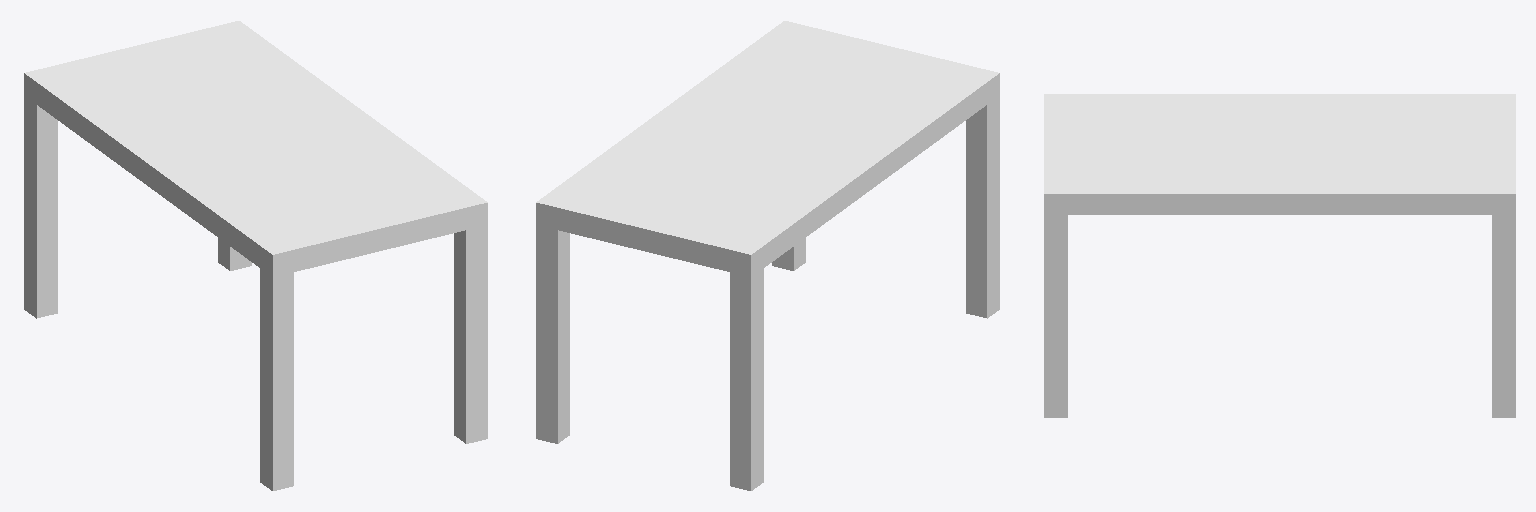
robot.urdf — rviz_sim:
<?xml version="1.0" ?>
<robot name="rviz_sim" version="1.0">
  <link name="map"/>
  <joint name="table_joint" type="fixed">
    <origin xyz="1.0 0.0 1.0" rpy="0.0 0.0 1.5707963705062866"/>
    <parent link="map"/>
    <child link="table"/>
  </joint>
  <link name="table">
    <inertial>
      <origin xyz="0.0 0.0 -0.20000000298023224" rpy="0.0 0.0 0.0"/>
      <mass value="10.0"/>
      <inertia ixx="2.251666784286499" ixy="0.0" ixz="0.0" iyy="6.551666736602783" iyz="0.0" izz="6.926666736602783"/>
    </inertial>
    <visual name="Geom_1">
      <origin xyz="0.0 0.0 0.0" rpy="0.0 0.0 0.0"/>
      <geometry>
        <box size="2.0 1.0 0.10000000149011612"/>
      </geometry>
      <material name="White">
        <color rgba="1.0 1.0 1.0 1.0"/>
      </material>
    </visual>
    <visual name="Geom_2">
      <origin xyz="0.949999988079071 0.44999998807907104 -0.5" rpy="0.0 0.0 0.0"/>
      <geometry>
        <box size="0.10000000149011612 0.10000000149011612 1.0"/>
      </geometry>
      <material name="White">
        <color rgba="1.0 1.0 1.0 1.0"/>
      </material>
    </visual>
    <visual name="Geom_3">
      <origin xyz="-0.949999988079071 0.44999998807907104 -0.5" rpy="0.0 0.0 0.0"/>
      <geometry>
        <box size="0.10000000149011612 0.10000000149011612 1.0"/>
      </geometry>
      <material name="White">
        <color rgba="1.0 1.0 1.0 1.0"/>
      </material>
    </visual>
    <visual name="Geom_4">
      <origin xyz="0.949999988079071 -0.44999998807907104 -0.5" rpy="0.0 0.0 0.0"/>
      <geometry>
        <box size="0.10000000149011612 0.10000000149011612 1.0"/>
      </geometry>
      <material name="White">
        <color rgba="1.0 1.0 1.0 1.0"/>
      </material>
    </visual>
    <visual name="Geom_5">
      <origin xyz="-0.949999988079071 -0.44999998807907104 -0.5" rpy="0.0 0.0 0.0"/>
      <geometry>
        <box size="0.10000000149011612 0.10000000149011612 1.0"/>
      </geometry>
      <material name="White">
        <color rgba="1.0 1.0 1.0 1.0"/>
      </material>
    </visual>
  </link>
  <joint name="mujoco_cube_1_joint" type="floating">
    <origin xyz="0.7 0.9 1.5" rpy="0.0 0.0 3.1415927410125732"/>
    <parent link="map"/>
    <child link="mujoco_cube_1"/>
  </joint>
  <link name="mujoco_cube_1">
    <inertial>
      <origin xyz="0.0 0.0 0.0" rpy="0.0 0.0 0.0"/>
      <mass value="0.125"/>
      <inertia ixx="5.207999856793322e-05" ixy="0.0" ixz="0.0" iyy="5.207999856793322e-05" iyz="0.0" izz="5.207999856793322e-05"/>
    </inertial>
    <visual name="mujoco_cube_geom_1">
      <origin xyz="0.0 0.0 0.0" rpy="0.0 0.0 0.0"/>
      <geometry>
        <mesh filename="file://scene/meshes/obj/mujoco_cube_1_cube_mesh.obj" scale="1.0 1.0 1.0"/>
      </geometry>
    </visual>
  </link>
  <joint name="mujoco_cube_2_joint" type="floating">
    <origin xyz="0.7 0.84 1.5" rpy="0.0 0.0 1.5707963705062866"/>
    <parent link="map"/>
    <child link="mujoco_cube_2"/>
  </joint>
  <link name="mujoco_cube_2">
    <inertial>
      <origin xyz="0.0 0.0 0.0" rpy="0.0 0.0 0.0"/>
      <mass value="0.125"/>
      <inertia ixx="5.207999856793322e-05" ixy="0.0" ixz="0.0" iyy="5.207999856793322e-05" iyz="0.0" izz="5.207999856793322e-05"/>
    </inertial>
    <visual name="mujoco_cube_geom_2">
      <origin xyz="0.0 0.0 0.0" rpy="0.0 0.0 0.0"/>
      <geometry>
        <mesh filename="file://scene/meshes/obj/mujoco_cube_2_cube_mesh.obj" scale="1.0 1.0 1.0"/>
      </geometry>
    </visual>
  </link>
  <joint name="mujoco_cube_3_joint" type="floating">
    <origin xyz="0.7 0.78 1.5" rpy="0.0 0.0 0.0"/>
    <parent link="map"/>
    <child link="mujoco_cube_3"/>
  </joint>
  <link name="mujoco_cube_3">
    <inertial>
      <origin xyz="0.0 0.0 0.0" rpy="0.0 0.0 0.0"/>
      <mass value="0.125"/>
      <inertia ixx="5.207999856793322e-05" ixy="0.0" ixz="0.0" iyy="5.207999856793322e-05" iyz="0.0" izz="5.207999856793322e-05"/>
    </inertial>
    <visual name="mujoco_cube_geom_3">
      <origin xyz="0.0 0.0 0.0" rpy="0.0 0.0 0.0"/>
      <geometry>
        <mesh filename="file://scene/meshes/obj/mujoco_cube_3_cube_mesh.obj" scale="1.0 1.0 1.0"/>
      </geometry>
    </visual>
  </link>
  <joint name="mujoco_cube_4_joint" type="floating">
    <origin xyz="0.7 0.72 1.5" rpy="0.0 0.0 -1.5707963705062866"/>
    <parent link="map"/>
    <child link="mujoco_cube_4"/>
  </joint>
  <link name="mujoco_cube_4">
    <inertial>
      <origin xyz="0.0 0.0 0.0" rpy="0.0 0.0 0.0"/>
      <mass value="0.125"/>
      <inertia ixx="5.207999856793322e-05" ixy="0.0" ixz="0.0" iyy="5.207999856793322e-05" iyz="0.0" izz="5.207999856793322e-05"/>
    </inertial>
    <visual name="mujoco_cube_geom_4">
      <origin xyz="0.0 0.0 0.0" rpy="0.0 0.0 0.0"/>
      <geometry>
        <mesh filename="file://scene/meshes/obj/mujoco_cube_4_cube_mesh.obj" scale="1.0 1.0 1.0"/>
      </geometry>
    </visual>
  </link>
  <joint name="mujoco_cube_5_joint" type="floating">
    <origin xyz="0.7 0.66 1.5" rpy="-3.1415927410125732 1.5707963705062866 0.0"/>
    <parent link="map"/>
    <child link="mujoco_cube_5"/>
  </joint>
  <link name="mujoco_cube_5">
    <inertial>
      <origin xyz="0.0 0.0 0.0" rpy="0.0 0.0 0.0"/>
      <mass value="0.125"/>
      <inertia ixx="5.207999856793322e-05" ixy="0.0" ixz="0.0" iyy="5.207999856793322e-05" iyz="0.0" izz="5.207999856793322e-05"/>
    </inertial>
    <visual name="mujoco_cube_geom_5">
      <origin xyz="0.0 0.0 0.0" rpy="0.0 0.0 0.0"/>
      <geometry>
        <mesh filename="file://scene/meshes/obj/mujoco_cube_5_cube_mesh.obj" scale="1.0 1.0 1.0"/>
      </geometry>
    </visual>
  </link>
  <joint name="mujoco_cube_6_joint" type="floating">
    <origin xyz="0.7 0.6 1.5" rpy="3.1415927410125732 -1.5707963705062866 0.0"/>
    <parent link="map"/>
    <child link="mujoco_cube_6"/>
  </joint>
  <link name="mujoco_cube_6">
    <inertial>
      <origin xyz="0.0 0.0 0.0" rpy="0.0 0.0 0.0"/>
      <mass value="0.125"/>
      <inertia ixx="5.207999856793322e-05" ixy="0.0" ixz="0.0" iyy="5.207999856793322e-05" iyz="0.0" izz="5.207999856793322e-05"/>
    </inertial>
    <visual name="mujoco_cube_geom_6">
      <origin xyz="0.0 0.0 0.0" rpy="0.0 0.0 0.0"/>
      <geometry>
        <mesh filename="file://scene/meshes/obj/mujoco_cube_6_cube_mesh.obj" scale="1.0 1.0 1.0"/>
      </geometry>
    </visual>
  </link>
  <joint name="gazebo_cube_1_joint" type="floating">
    <origin xyz="0.7 0.4 1.5" rpy="0.0 0.0 3.1415927410125732"/>
    <parent link="map"/>
    <child link="gazebo_cube_1"/>
  </joint>
  <link name="gazebo_cube_1">
    <inertial>
      <origin xyz="0.0 0.0 0.0" rpy="0.0 0.0 0.0"/>
      <mass value="0.125"/>
      <inertia ixx="5.207999856793322e-05" ixy="0.0" ixz="0.0" iyy="5.207999856793322e-05" iyz="0.0" izz="5.207999856793322e-05"/>
    </inertial>
    <visual name="gazebo_cube_geom_1">
      <origin xyz="0.0 0.0 0.0" rpy="0.0 0.0 0.0"/>
      <geometry>
        <mesh filename="file://scene/meshes/obj/gazebo_cube_1_cube_mesh.obj" scale="1.0 1.0 1.0"/>
      </geometry>
    </visual>
  </link>
  <joint name="gazebo_cube_2_joint" type="floating">
    <origin xyz="0.7 0.34 1.5" rpy="0.0 0.0 1.5707963705062866"/>
    <parent link="map"/>
    <child link="gazebo_cube_2"/>
  </joint>
  <link name="gazebo_cube_2">
    <inertial>
      <origin xyz="0.0 0.0 0.0" rpy="0.0 0.0 0.0"/>
      <mass value="0.125"/>
      <inertia ixx="5.207999856793322e-05" ixy="0.0" ixz="0.0" iyy="5.207999856793322e-05" iyz="0.0" izz="5.207999856793322e-05"/>
    </inertial>
    <visual name="gazebo_cube_geom_2">
      <origin xyz="0.0 0.0 0.0" rpy="0.0 0.0 0.0"/>
      <geometry>
        <mesh filename="file://scene/meshes/obj/gazebo_cube_2_cube_mesh.obj" scale="1.0 1.0 1.0"/>
      </geometry>
    </visual>
  </link>
  <joint name="gazebo_cube_3_joint" type="floating">
    <origin xyz="0.7 0.28 1.5" rpy="0.0 0.0 0.0"/>
    <parent link="map"/>
    <child link="gazebo_cube_3"/>
  </joint>
  <link name="gazebo_cube_3">
    <inertial>
      <origin xyz="0.0 0.0 0.0" rpy="0.0 0.0 0.0"/>
      <mass value="0.125"/>
      <inertia ixx="5.207999856793322e-05" ixy="0.0" ixz="0.0" iyy="5.207999856793322e-05" iyz="0.0" izz="5.207999856793322e-05"/>
    </inertial>
    <visual name="gazebo_cube_geom_3">
      <origin xyz="0.0 0.0 0.0" rpy="0.0 0.0 0.0"/>
      <geometry>
        <mesh filename="file://scene/meshes/obj/gazebo_cube_3_cube_mesh.obj" scale="1.0 1.0 1.0"/>
      </geometry>
    </visual>
  </link>
  <joint name="gazebo_cube_4_joint" type="floating">
    <origin xyz="0.7 0.22 1.5" rpy="0.0 0.0 -1.5707963705062866"/>
    <parent link="map"/>
    <child link="gazebo_cube_4"/>
  </joint>
  <link name="gazebo_cube_4">
    <inertial>
      <origin xyz="0.0 0.0 0.0" rpy="0.0 0.0 0.0"/>
      <mass value="0.125"/>
      <inertia ixx="5.207999856793322e-05" ixy="0.0" ixz="0.0" iyy="5.207999856793322e-05" iyz="0.0" izz="5.207999856793322e-05"/>
    </inertial>
    <visual name="gazebo_cube_geom_4">
      <origin xyz="0.0 0.0 0.0" rpy="0.0 0.0 0.0"/>
      <geometry>
        <mesh filename="file://scene/meshes/obj/gazebo_cube_4_cube_mesh.obj" scale="1.0 1.0 1.0"/>
      </geometry>
    </visual>
  </link>
  <joint name="gazebo_cube_5_joint" type="floating">
    <origin xyz="0.7 0.16 1.5" rpy="-3.1415927410125732 1.5707963705062866 0.0"/>
    <parent link="map"/>
    <child link="gazebo_cube_5"/>
  </joint>
  <link name="gazebo_cube_5">
    <inertial>
      <origin xyz="0.0 0.0 0.0" rpy="0.0 0.0 0.0"/>
      <mass value="0.125"/>
      <inertia ixx="5.207999856793322e-05" ixy="0.0" ixz="0.0" iyy="5.207999856793322e-05" iyz="0.0" izz="5.207999856793322e-05"/>
    </inertial>
    <visual name="gazebo_cube_geom_5">
      <origin xyz="0.0 0.0 0.0" rpy="0.0 0.0 0.0"/>
      <geometry>
        <mesh filename="file://scene/meshes/obj/gazebo_cube_5_cube_mesh.obj" scale="1.0 1.0 1.0"/>
      </geometry>
    </visual>
  </link>
  <joint name="gazebo_cube_6_joint" type="floating">
    <origin xyz="0.7 0.1 1.5" rpy="3.1415927410125732 -1.5707963705062866 0.0"/>
    <parent link="map"/>
    <child link="gazebo_cube_6"/>
  </joint>
  <link name="gazebo_cube_6">
    <inertial>
      <origin xyz="0.0 0.0 0.0" rpy="0.0 0.0 0.0"/>
      <mass value="0.125"/>
      <inertia ixx="5.207999856793322e-05" ixy="0.0" ixz="0.0" iyy="5.207999856793322e-05" iyz="0.0" izz="5.207999856793322e-05"/>
    </inertial>
    <visual name="gazebo_cube_geom_6">
      <origin xyz="0.0 0.0 0.0" rpy="0.0 0.0 0.0"/>
      <geometry>
        <mesh filename="file://scene/meshes/obj/gazebo_cube_6_cube_mesh.obj" scale="1.0 1.0 1.0"/>
      </geometry>
    </visual>
  </link>
  <joint name="isaac_sim_cube_1_joint" type="floating">
    <origin xyz="0.7 -0.1 1.5" rpy="0.0 0.0 3.1415927410125732"/>
    <parent link="map"/>
    <child link="isaac_sim_cube_1"/>
  </joint>
  <link name="isaac_sim_cube_1">
    <inertial>
      <origin xyz="0.0 0.0 0.0" rpy="0.0 0.0 0.0"/>
      <mass value="0.125"/>
      <inertia ixx="5.207999856793322e-05" ixy="0.0" ixz="0.0" iyy="5.207999856793322e-05" iyz="0.0" izz="5.207999856793322e-05"/>
    </inertial>
    <visual name="isaac_sim_cube_geom_1">
      <origin xyz="0.0 0.0 0.0" rpy="0.0 0.0 0.0"/>
      <geometry>
        <mesh filename="file://scene/meshes/obj/isaac_sim_cube_1_cube_mesh.obj" scale="1.0 1.0 1.0"/>
      </geometry>
    </visual>
  </link>
  <joint name="isaac_sim_cube_2_joint" type="floating">
    <origin xyz="0.7 -0.16 1.5" rpy="0.0 0.0 1.5707963705062866"/>
    <parent link="map"/>
    <child link="isaac_sim_cube_2"/>
  </joint>
  <link name="isaac_sim_cube_2">
    <inertial>
      <origin xyz="0.0 0.0 0.0" rpy="0.0 0.0 0.0"/>
      <mass value="0.125"/>
      <inertia ixx="5.207999856793322e-05" ixy="0.0" ixz="0.0" iyy="5.207999856793322e-05" iyz="0.0" izz="5.207999856793322e-05"/>
    </inertial>
    <visual name="isaac_sim_cube_geom_2">
      <origin xyz="0.0 0.0 0.0" rpy="0.0 0.0 0.0"/>
      <geometry>
        <mesh filename="file://scene/meshes/obj/isaac_sim_cube_2_cube_mesh.obj" scale="1.0 1.0 1.0"/>
      </geometry>
    </visual>
  </link>
  <joint name="isaac_sim_cube_3_joint" type="floating">
    <origin xyz="0.7 -0.22 1.5" rpy="0.0 0.0 0.0"/>
    <parent link="map"/>
    <child link="isaac_sim_cube_3"/>
  </joint>
  <link name="isaac_sim_cube_3">
    <inertial>
      <origin xyz="0.0 0.0 0.0" rpy="0.0 0.0 0.0"/>
      <mass value="0.125"/>
      <inertia ixx="5.207999856793322e-05" ixy="0.0" ixz="0.0" iyy="5.207999856793322e-05" iyz="0.0" izz="5.207999856793322e-05"/>
    </inertial>
    <visual name="isaac_sim_cube_geom_3">
      <origin xyz="0.0 0.0 0.0" rpy="0.0 0.0 0.0"/>
      <geometry>
        <mesh filename="file://scene/meshes/obj/isaac_sim_cube_3_cube_mesh.obj" scale="1.0 1.0 1.0"/>
      </geometry>
    </visual>
  </link>
  <joint name="isaac_sim_cube_4_joint" type="floating">
    <origin xyz="0.7 -0.28 1.5" rpy="0.0 0.0 -1.5707963705062866"/>
    <parent link="map"/>
    <child link="isaac_sim_cube_4"/>
  </joint>
  <link name="isaac_sim_cube_4">
    <inertial>
      <origin xyz="0.0 0.0 0.0" rpy="0.0 0.0 0.0"/>
      <mass value="0.125"/>
      <inertia ixx="5.207999856793322e-05" ixy="0.0" ixz="0.0" iyy="5.207999856793322e-05" iyz="0.0" izz="5.207999856793322e-05"/>
    </inertial>
    <visual name="isaac_sim_cube_geom_4">
      <origin xyz="0.0 0.0 0.0" rpy="0.0 0.0 0.0"/>
      <geometry>
        <mesh filename="file://scene/meshes/obj/isaac_sim_cube_4_cube_mesh.obj" scale="1.0 1.0 1.0"/>
      </geometry>
    </visual>
  </link>
  <joint name="isaac_sim_cube_5_joint" type="floating">
    <origin xyz="0.7 -0.34 1.5" rpy="3.1415927410125732 -1.5707963705062866 0.0"/>
    <parent link="map"/>
    <child link="isaac_sim_cube_5"/>
  </joint>
  <link name="isaac_sim_cube_5">
    <inertial>
      <origin xyz="0.0 0.0 0.0" rpy="0.0 0.0 0.0"/>
      <mass value="0.125"/>
      <inertia ixx="5.207999856793322e-05" ixy="0.0" ixz="0.0" iyy="5.207999856793322e-05" iyz="0.0" izz="5.207999856793322e-05"/>
    </inertial>
    <visual name="isaac_sim_cube_geom_5">
      <origin xyz="0.0 0.0 0.0" rpy="0.0 0.0 0.0"/>
      <geometry>
        <mesh filename="file://scene/meshes/obj/isaac_sim_cube_5_cube_mesh.obj" scale="1.0 1.0 1.0"/>
      </geometry>
    </visual>
  </link>
  <joint name="isaac_sim_cube_6_joint" type="floating">
    <origin xyz="0.7 -0.4 1.5" rpy="0.0 -1.5707963705062866 0.0"/>
    <parent link="map"/>
    <child link="isaac_sim_cube_6"/>
  </joint>
  <link name="isaac_sim_cube_6">
    <inertial>
      <origin xyz="0.0 0.0 0.0" rpy="0.0 0.0 0.0"/>
      <mass value="0.125"/>
      <inertia ixx="5.207999856793322e-05" ixy="0.0" ixz="0.0" iyy="5.207999856793322e-05" iyz="0.0" izz="5.207999856793322e-05"/>
    </inertial>
    <visual name="isaac_sim_cube_geom_6">
      <origin xyz="0.0 0.0 0.0" rpy="0.0 0.0 0.0"/>
      <geometry>
        <mesh filename="file://scene/meshes/obj/isaac_sim_cube_6_cube_mesh.obj" scale="1.0 1.0 1.0"/>
      </geometry>
    </visual>
  </link>
  <joint name="unreal_cube_1_joint" type="floating">
    <origin xyz="0.7 -0.6 1.5" rpy="0.0 0.0 3.1415927410125732"/>
    <parent link="map"/>
    <child link="unreal_cube_1"/>
  </joint>
  <link name="unreal_cube_1">
    <inertial>
      <origin xyz="0.0 0.0 0.0" rpy="0.0 0.0 0.0"/>
      <mass value="0.125"/>
      <inertia ixx="5.207999856793322e-05" ixy="0.0" ixz="0.0" iyy="5.207999856793322e-05" iyz="0.0" izz="5.207999856793322e-05"/>
    </inertial>
    <visual name="unreal_cube_geom_1">
      <origin xyz="0.0 0.0 0.0" rpy="0.0 0.0 0.0"/>
      <geometry>
        <mesh filename="file://scene/meshes/obj/unreal_cube_1_cube_mesh.obj" scale="1.0 1.0 1.0"/>
      </geometry>
    </visual>
  </link>
  <joint name="unreal_cube_2_joint" type="floating">
    <origin xyz="0.7 -0.66 1.5" rpy="0.0 0.0 1.5707963705062866"/>
    <parent link="map"/>
    <child link="unreal_cube_2"/>
  </joint>
  <link name="unreal_cube_2">
    <inertial>
      <origin xyz="0.0 0.0 0.0" rpy="0.0 0.0 0.0"/>
      <mass value="0.125"/>
      <inertia ixx="5.207999856793322e-05" ixy="0.0" ixz="0.0" iyy="5.207999856793322e-05" iyz="0.0" izz="5.207999856793322e-05"/>
    </inertial>
    <visual name="unreal_cube_geom_2">
      <origin xyz="0.0 0.0 0.0" rpy="0.0 0.0 0.0"/>
      <geometry>
        <mesh filename="file://scene/meshes/obj/unreal_cube_2_cube_mesh.obj" scale="1.0 1.0 1.0"/>
      </geometry>
    </visual>
  </link>
  <joint name="unreal_cube_3_joint" type="floating">
    <origin xyz="0.7 -0.72 1.5" rpy="0.0 0.0 0.0"/>
    <parent link="map"/>
    <child link="unreal_cube_3"/>
  </joint>
  <link name="unreal_cube_3">
    <inertial>
      <origin xyz="0.0 0.0 0.0" rpy="0.0 0.0 0.0"/>
      <mass value="0.125"/>
      <inertia ixx="5.207999856793322e-05" ixy="0.0" ixz="0.0" iyy="5.207999856793322e-05" iyz="0.0" izz="5.207999856793322e-05"/>
    </inertial>
    <visual name="unreal_cube_geom_3">
      <origin xyz="0.0 0.0 0.0" rpy="0.0 0.0 0.0"/>
      <geometry>
        <mesh filename="file://scene/meshes/obj/unreal_cube_3_cube_mesh.obj" scale="1.0 1.0 1.0"/>
      </geometry>
    </visual>
  </link>
  <joint name="unreal_cube_4_joint" type="floating">
    <origin xyz="0.7 -0.78 1.5" rpy="0.0 0.0 -1.5707963705062866"/>
    <parent link="map"/>
    <child link="unreal_cube_4"/>
  </joint>
  <link name="unreal_cube_4">
    <inertial>
      <origin xyz="0.0 0.0 0.0" rpy="0.0 0.0 0.0"/>
      <mass value="0.125"/>
      <inertia ixx="5.207999856793322e-05" ixy="0.0" ixz="0.0" iyy="5.207999856793322e-05" iyz="0.0" izz="5.207999856793322e-05"/>
    </inertial>
    <visual name="unreal_cube_geom_4">
      <origin xyz="0.0 0.0 0.0" rpy="0.0 0.0 0.0"/>
      <geometry>
        <mesh filename="file://scene/meshes/obj/unreal_cube_4_cube_mesh.obj" scale="1.0 1.0 1.0"/>
      </geometry>
    </visual>
  </link>
  <joint name="unreal_cube_5_joint" type="floating">
    <origin xyz="0.7 -0.84 1.5" rpy="-3.1415927410125732 1.5707963705062866 0.0"/>
    <parent link="map"/>
    <child link="unreal_cube_5"/>
  </joint>
  <link name="unreal_cube_5">
    <inertial>
      <origin xyz="0.0 0.0 0.0" rpy="0.0 0.0 0.0"/>
      <mass value="0.125"/>
      <inertia ixx="5.207999856793322e-05" ixy="0.0" ixz="0.0" iyy="5.207999856793322e-05" iyz="0.0" izz="5.207999856793322e-05"/>
    </inertial>
    <visual name="unreal_cube_geom_5">
      <origin xyz="0.0 0.0 0.0" rpy="0.0 0.0 0.0"/>
      <geometry>
        <mesh filename="file://scene/meshes/obj/unreal_cube_5_cube_mesh.obj" scale="1.0 1.0 1.0"/>
      </geometry>
    </visual>
  </link>
  <joint name="unreal_cube_6_joint" type="floating">
    <origin xyz="0.7 -0.9 1.5" rpy="3.1415927410125732 -1.5707963705062866 0.0"/>
    <parent link="map"/>
    <child link="unreal_cube_6"/>
  </joint>
  <link name="unreal_cube_6">
    <inertial>
      <origin xyz="0.0 0.0 0.0" rpy="0.0 0.0 0.0"/>
      <mass value="0.125"/>
      <inertia ixx="5.207999856793322e-05" ixy="0.0" ixz="0.0" iyy="5.207999856793322e-05" iyz="0.0" izz="5.207999856793322e-05"/>
    </inertial>
    <visual name="unreal_cube_geom_6">
      <origin xyz="0.0 0.0 0.0" rpy="0.0 0.0 0.0"/>
      <geometry>
        <mesh filename="file://scene/meshes/obj/unreal_cube_6_cube_mesh.obj" scale="1.0 1.0 1.0"/>
      </geometry>
    </visual>
  </link>
</robot>

--- Facts derived from the render (not from the file) ---
The picture shows the robot from 3 angles, left to right: view 1: azimuth 30°, elevation 25°; view 2: azimuth 150°, elevation 25°; view 3: azimuth 270°, elevation 25°; orthographic projection.
Model rviz_sim with 26 links and 25 joints (1 fixed, 24 floating), rooted at map, posed every joint at zero.
Links seen in each view (by area): view 1: table; view 2: table; view 3: table.
Boxes of the visible links, left/top/right/bottom form: table: left=24, top=21, right=487, bottom=490; table: left=536, top=21, right=999, bottom=490; table: left=1044, top=94, right=1515, bottom=417.
Size in the robot's own frame: 1 by 2 by 1.05 metres.
Geometry: only primitive shapes (box / cylinder / sphere) drawn; not drawn: 24 mesh visuals (reference in a form the renderer does not follow).